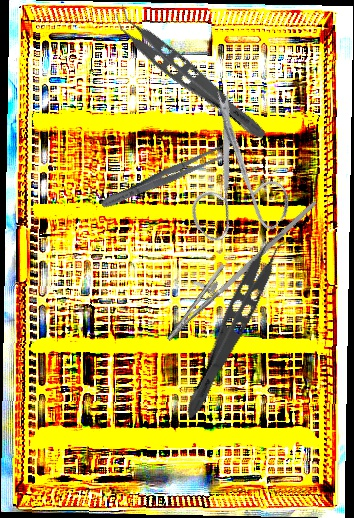Dressing Forceps: (98, 142, 229, 213)
Iris Scissors: (139, 85, 322, 267)
Needle Holder: (154, 174, 318, 358)
Tissue Forceps: (104, 2, 278, 144), (179, 224, 296, 428)
